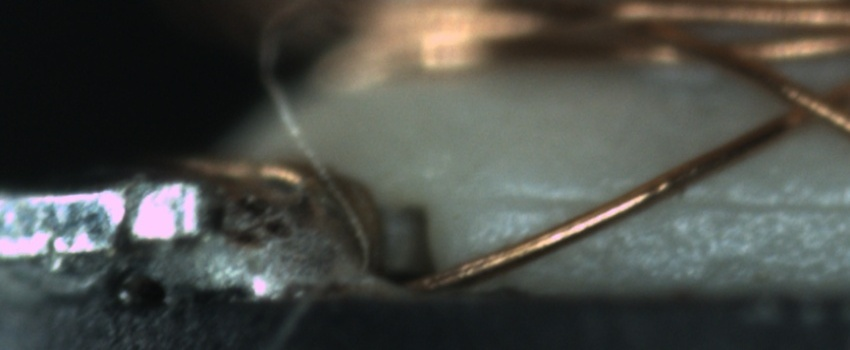CL: (763, 70, 846, 136)
DL: (494, 174, 850, 237)
TE: (180, 148, 333, 202)
